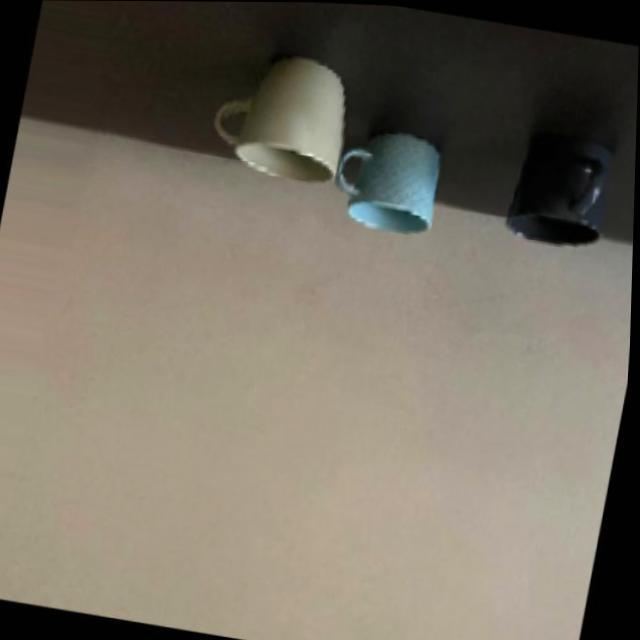cup: (335, 132, 342, 226)
